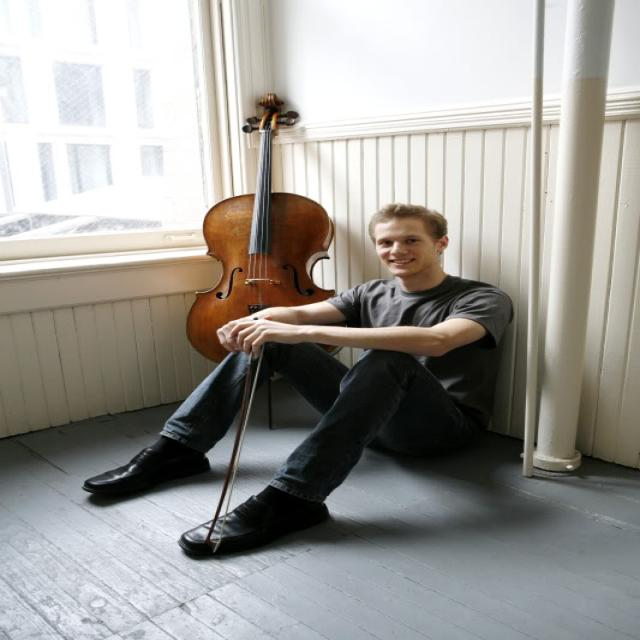cello: (187, 92, 336, 370)
